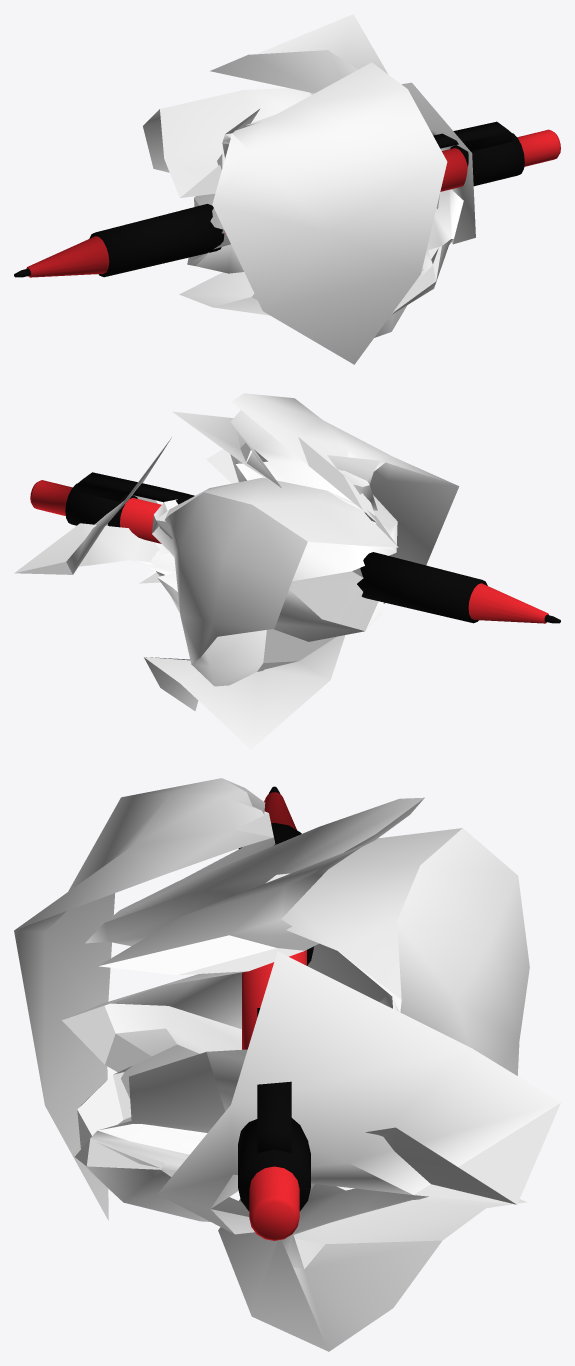
Rendered from StankyPen.fbx.
The picture shows the model from 3 angles, top to bottom: view 1: azimuth 30°, elevation 25°; view 2: azimuth 150°, elevation 25°; view 3: azimuth 270°, elevation 25°; orthographic projection. The views are drawn at different scales.
Visible parts, largest first — view 1: StankyPen; view 2: StankyPen; view 3: StankyPen.
Boxes of the visible parts, x1,y1,x2,y2 form: StankyPen: [14, 14, 560, 364]; StankyPen: [14, 393, 560, 749]; StankyPen: [14, 778, 560, 1351].
Size of the model in its own units: 235 by 132 by 126.
